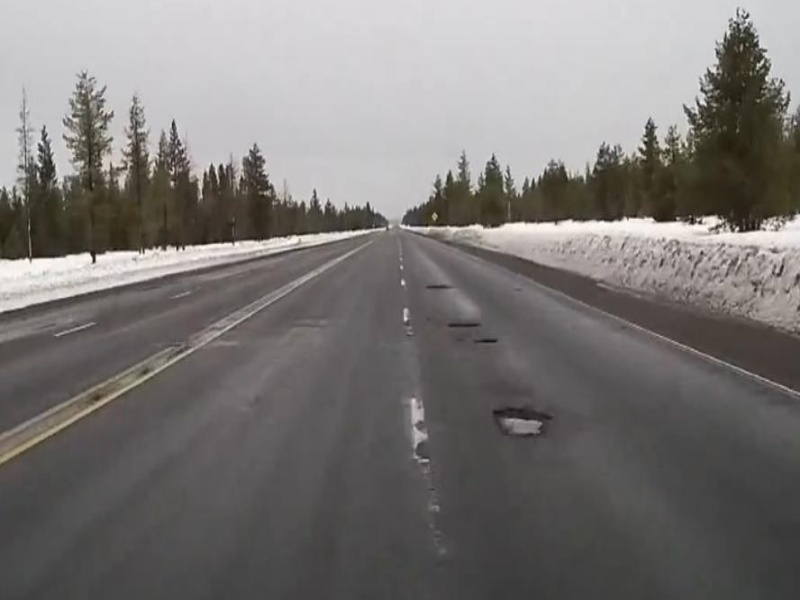pothole: (488, 402, 557, 443)
